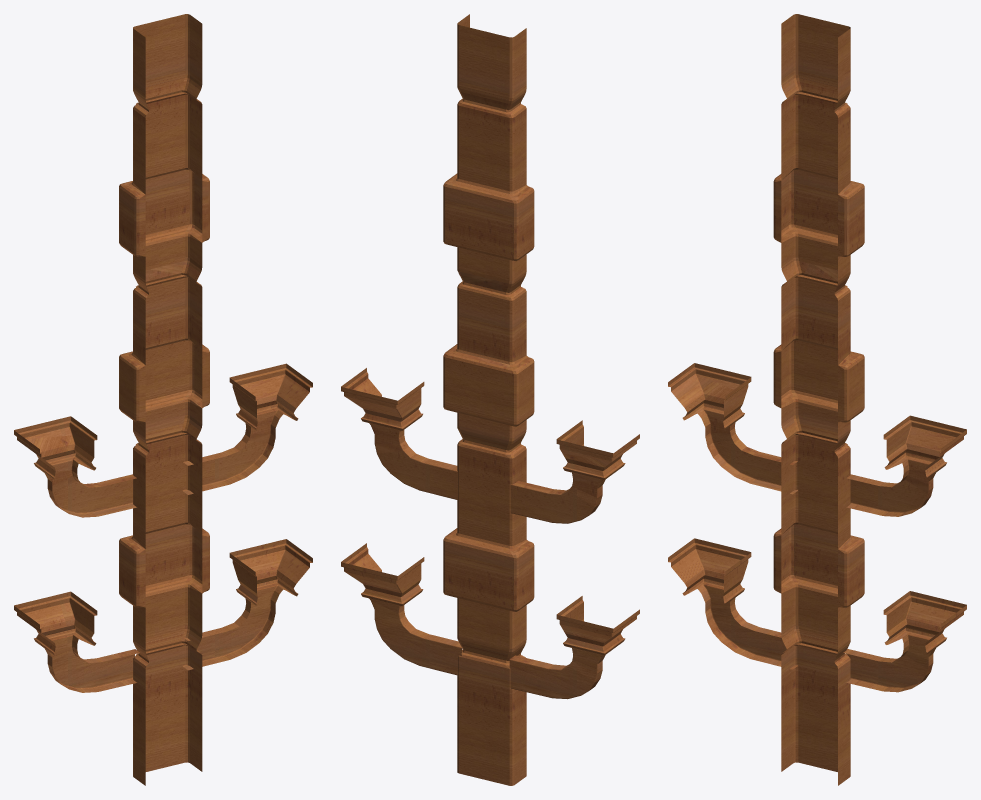
3 views of the same model, side by side, from view 1: azimuth 30°, elevation 25°; view 2: azimuth 150°, elevation 25°; view 3: azimuth 330°, elevation 25° (orthographic).
Parts seen in each view (by area): view 1: R1L2; view 2: R1L2; view 3: R1L2.
Boxes of the visible parts, bbox=[...] form: R1L2: bbox=[14, 14, 312, 785]; R1L2: bbox=[341, 14, 639, 785]; R1L2: bbox=[668, 14, 966, 785].
Bounding box in the file's own units: 19.32 × 50.66 × 3.24.
1 material, 1 textured.
